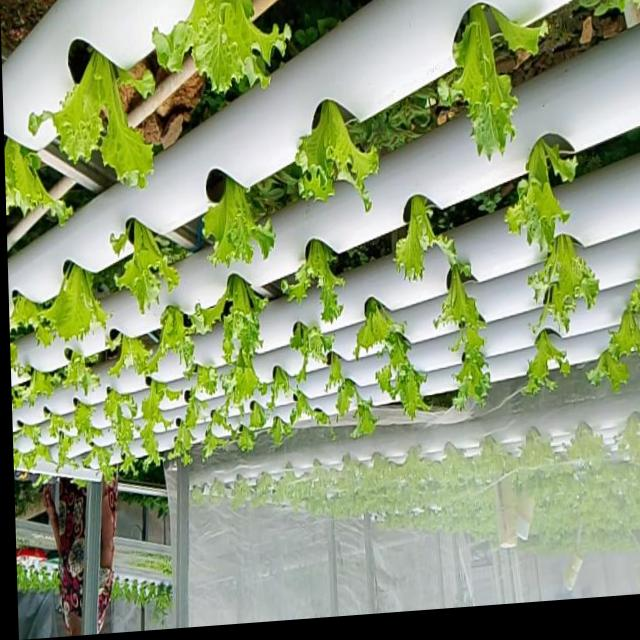Baby: (25, 54, 150, 191), (147, 0, 286, 95), (435, 5, 512, 162), (291, 100, 375, 212), (431, 257, 487, 410), (500, 139, 572, 252), (198, 169, 271, 267), (524, 235, 594, 333), (110, 218, 175, 313), (38, 264, 107, 346), (391, 196, 453, 281), (278, 240, 341, 323), (134, 304, 201, 376), (373, 333, 427, 419), (275, 321, 331, 381), (350, 298, 402, 358), (100, 388, 137, 471), (519, 330, 566, 395), (217, 349, 264, 412), (602, 290, 640, 363), (79, 446, 111, 482), (70, 402, 97, 444), (206, 405, 229, 437), (192, 365, 215, 395), (54, 432, 71, 470)
